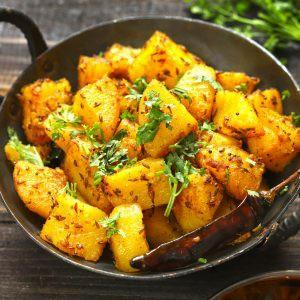AlooMasala: (6, 30, 300, 271)
